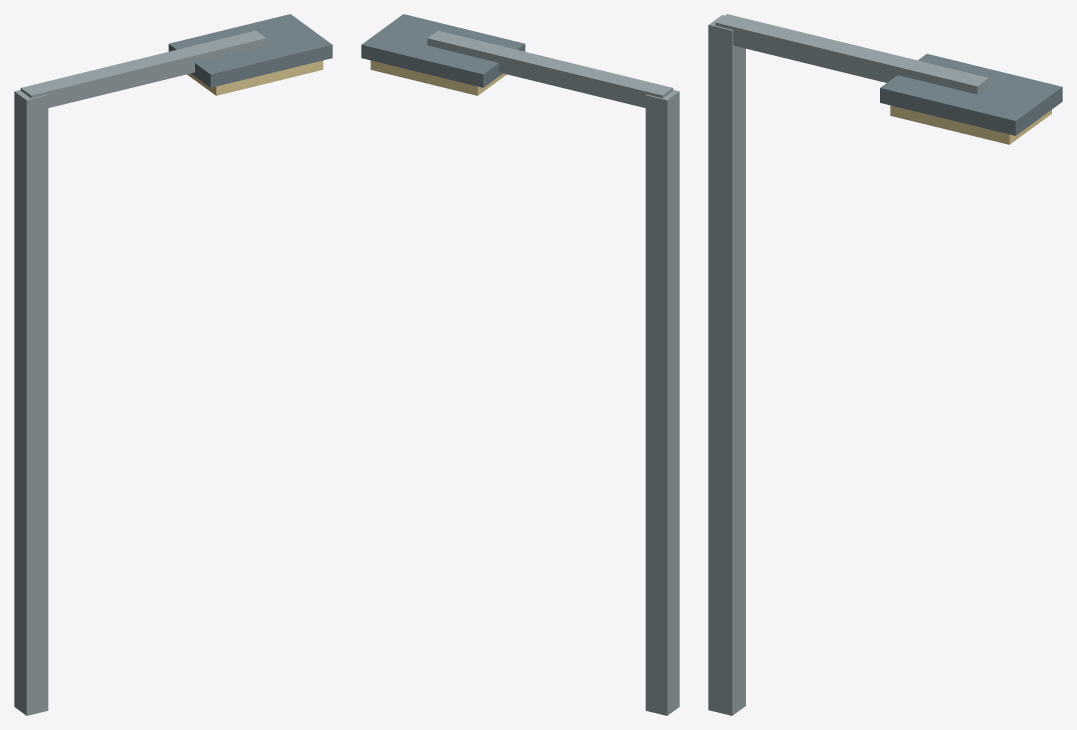
The model's file is DF_ART_DockLight.glb.
The picture shows the model from 3 angles, left to right: view 1: azimuth 30°, elevation 25°; view 2: azimuth 150°, elevation 25°; view 3: azimuth 330°, elevation 25°; orthographic projection. The views are drawn at different scales.
Visible parts, largest first — view 1: mast_0, hood_3, arm_1, sodium_lamp_2; view 2: mast_0, hood_3, arm_1, sodium_lamp_2; view 3: mast_0, hood_3, arm_1, sodium_lamp_2.
Part boxes in pixels (x1,y1,x2,y2): mast_0: (14,90,48,715); hood_3: (168,14,332,87); arm_1: (20,30,266,107); sodium_lamp_2: (187,60,323,95); mast_0: (645,90,679,715); hood_3: (361,14,525,87); arm_1: (427,30,673,107); sodium_lamp_2: (370,60,506,95); mast_0: (708,15,745,715); hood_3: (880,54,1062,135); arm_1: (715,14,988,94); sodium_lamp_2: (890,105,1051,144).
Size of the model in its own units: 2.72 by 5.53 by 0.68.
